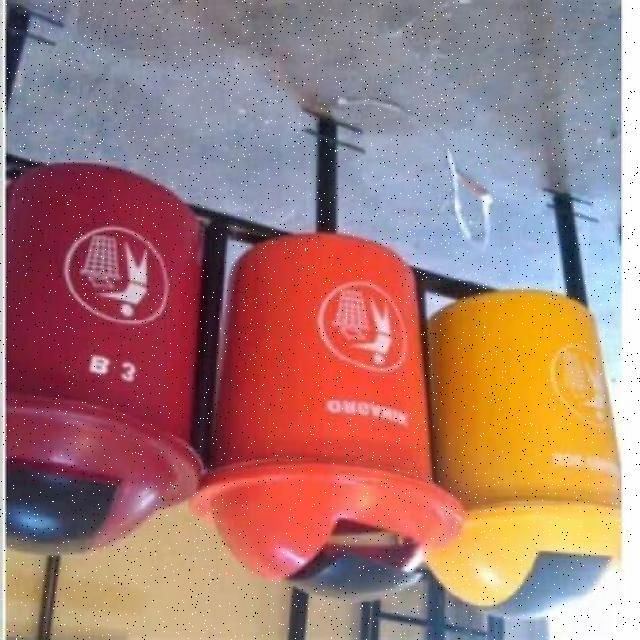garbage container: (195, 228, 464, 585), (4, 141, 218, 562), (422, 274, 640, 615)
